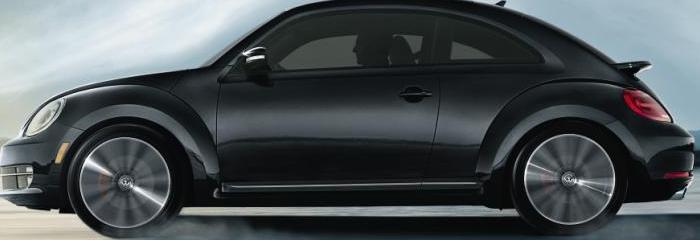backlight: (616, 74, 681, 128)
headlight: (24, 91, 71, 143)
side_glass: (230, 7, 548, 82)
